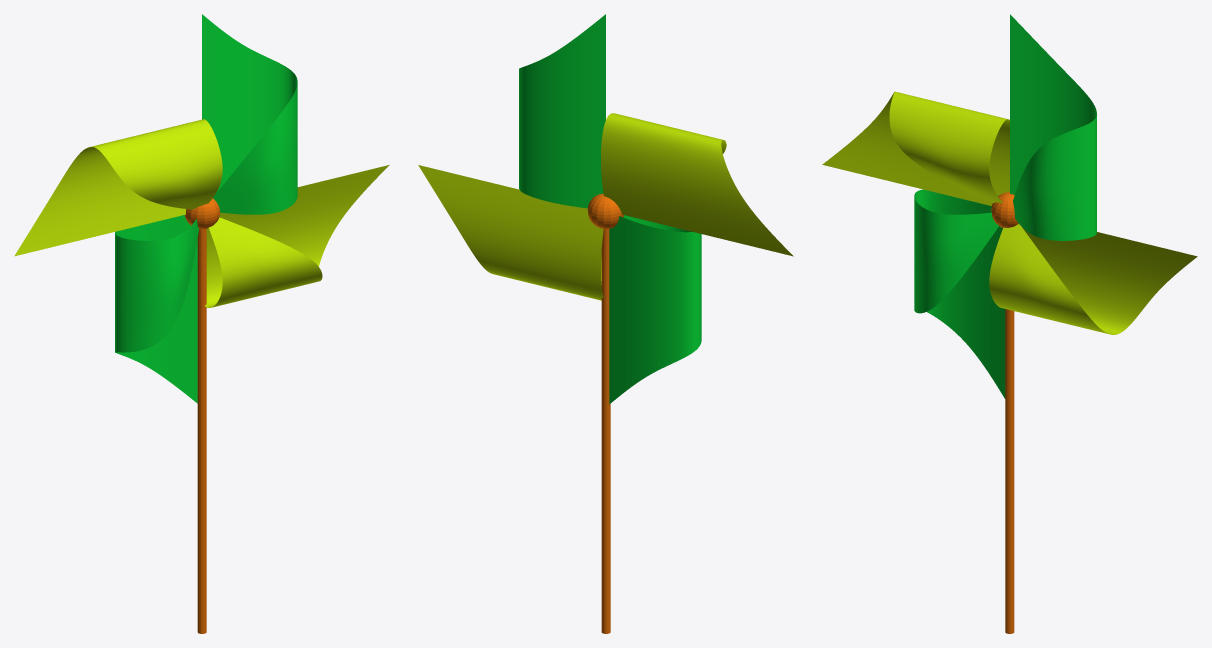
The model's file is Kazaguruma .fbx.
The picture shows the model from 3 angles, left to right: view 1: azimuth 30°, elevation 25°; view 2: azimuth 150°, elevation 25°; view 3: azimuth 330°, elevation 25°; orthographic projection.
Visible parts, largest first — view 1: Cube, Cube.001, Cube.003, Cube.002, Cylinder, Sphere; view 2: Cube, Cube.003, Cube.002, Cube.001, Cylinder, Sphere; view 3: Cube.001, Cube.002, Cube, Cube.003, Cylinder, Sphere.
Boxes of the visible parts, bbox=[...] form: Cube: bbox=[14, 119, 222, 256]; Cube.001: bbox=[202, 14, 297, 214]; Cube.003: bbox=[115, 215, 198, 403]; Cube.002: bbox=[204, 165, 389, 307]; Cylinder: bbox=[197, 229, 206, 633]; Sphere: bbox=[184, 198, 220, 229]; Cube: bbox=[601, 113, 793, 256]; Cube.003: bbox=[609, 215, 701, 404]; Cube.002: bbox=[418, 165, 603, 300]; Cube.001: bbox=[519, 14, 605, 208]; Cylinder: bbox=[601, 229, 610, 633]; Sphere: bbox=[587, 193, 623, 228]; Cube.001: bbox=[1010, 14, 1096, 240]; Cube.002: bbox=[989, 224, 1197, 334]; Cube: bbox=[822, 91, 1009, 205]; Cube.003: bbox=[914, 189, 1005, 398]; Cylinder: bbox=[1005, 309, 1014, 633]; Sphere: bbox=[991, 192, 1018, 227].
Bounding box in the file's own units: 700 × 1100 × 100.
